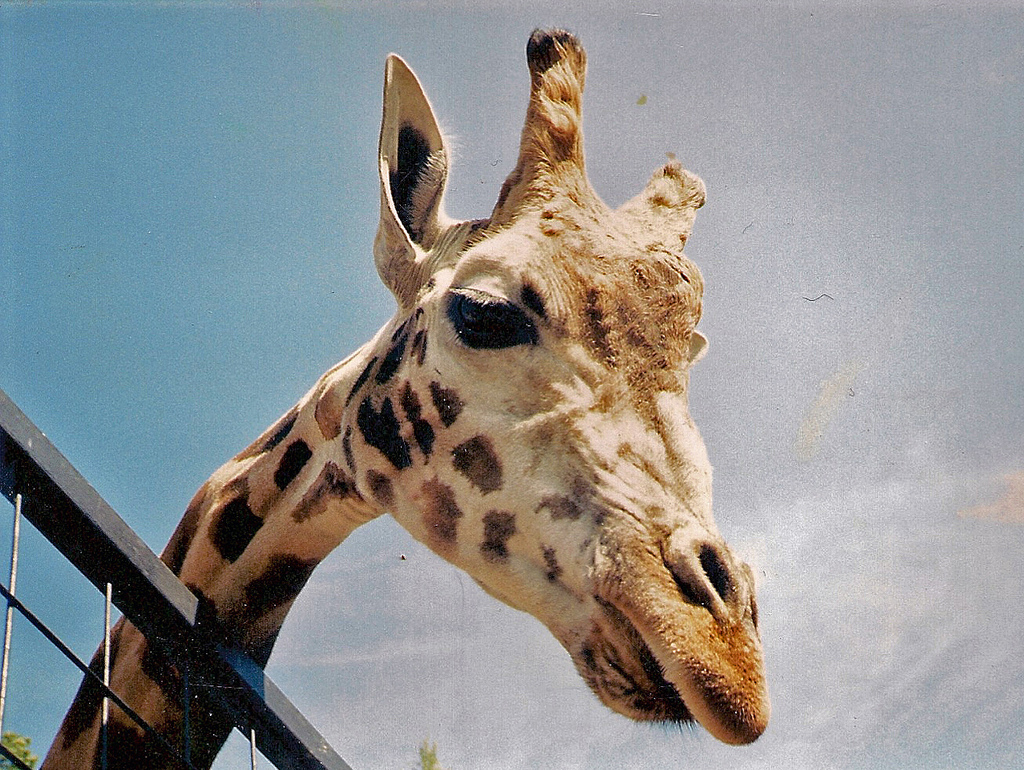giraffe: (112, 19, 755, 770)
